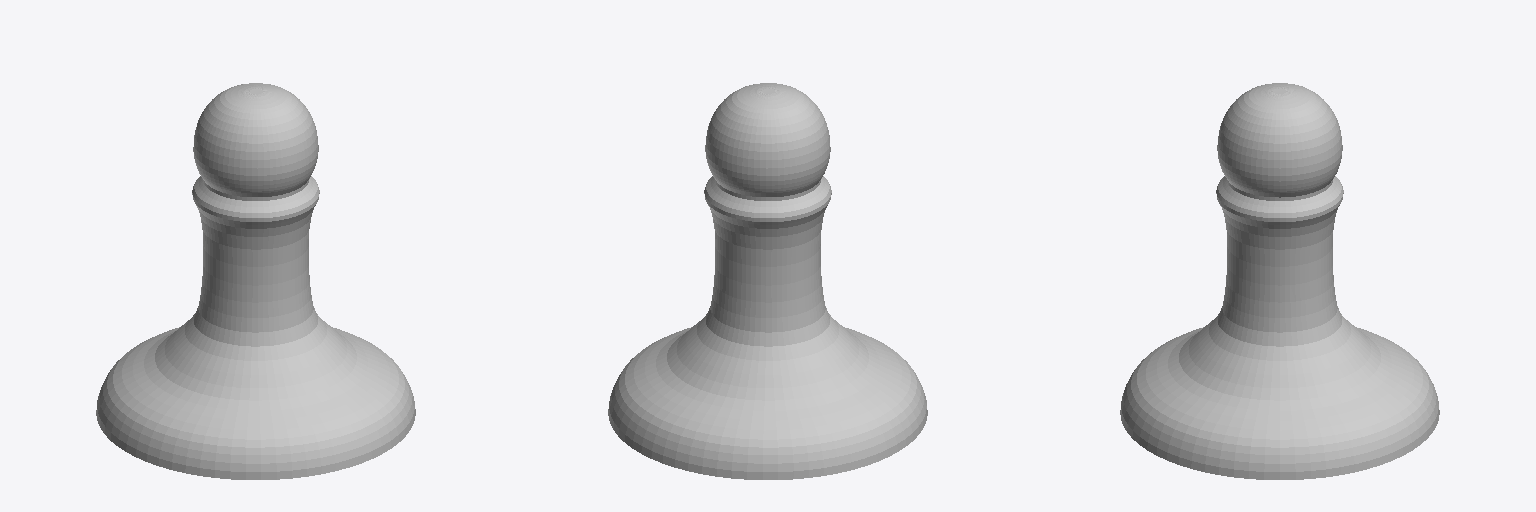
The model's file is Pawn Chess Piece.obj.
The picture shows the model from 3 angles: view 1: azimuth 30°, elevation 25°; view 2: azimuth 150°, elevation 25°; view 3: azimuth 270°, elevation 25°; orthographic projection.
Parts seen in each view (by area): view 1: Cylinder; view 2: Cylinder; view 3: Cylinder.
Part boxes in pixels (left/top/right/bottom): Cylinder: left=96, top=83, right=415, bottom=479; Cylinder: left=608, top=83, right=927, bottom=479; Cylinder: left=1120, top=83, right=1439, bottom=479.
Bounding box in the file's own units: 1.99 × 2.26 × 1.99.